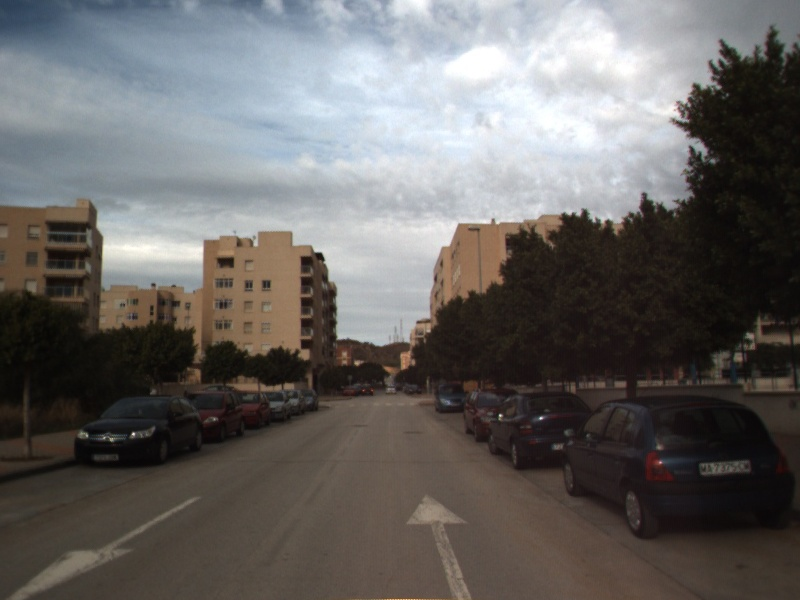STRAIGHT: (403, 491, 476, 600)
